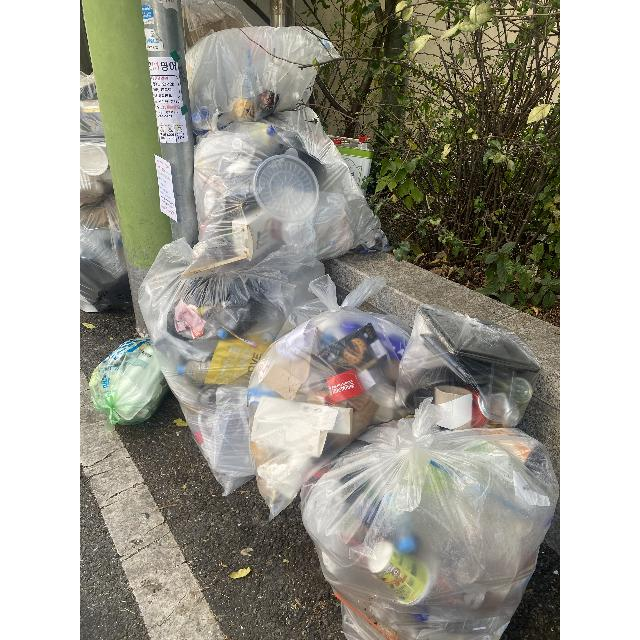general_trashbag: (91, 344, 166, 432)
other_trashbag: (307, 411, 560, 640), (147, 243, 321, 524), (248, 314, 469, 525), (180, 110, 370, 270), (177, 25, 324, 113)
